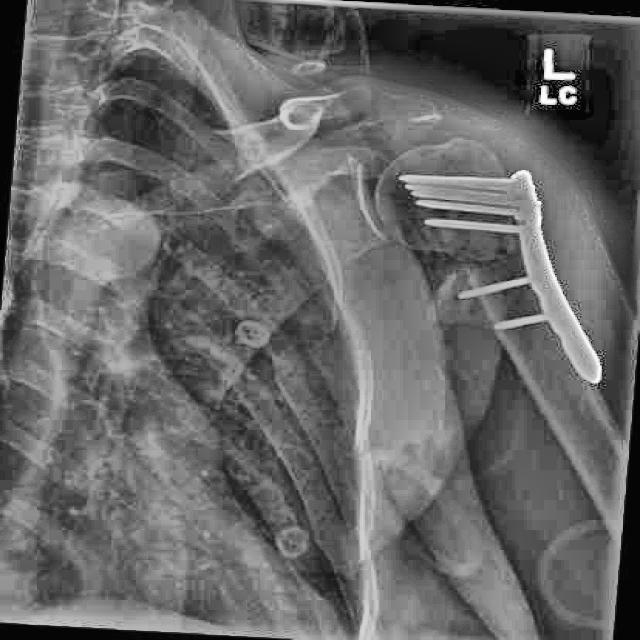forearm fracture: (417, 228, 569, 283)
